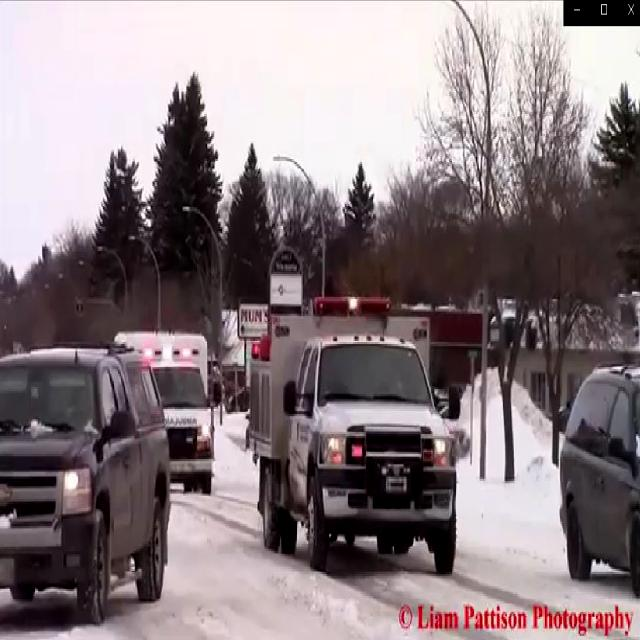emergency: (244, 290, 467, 585), (120, 326, 216, 496)
